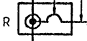Single Phase Tap-Off Unit: (15, 1, 75, 38)
